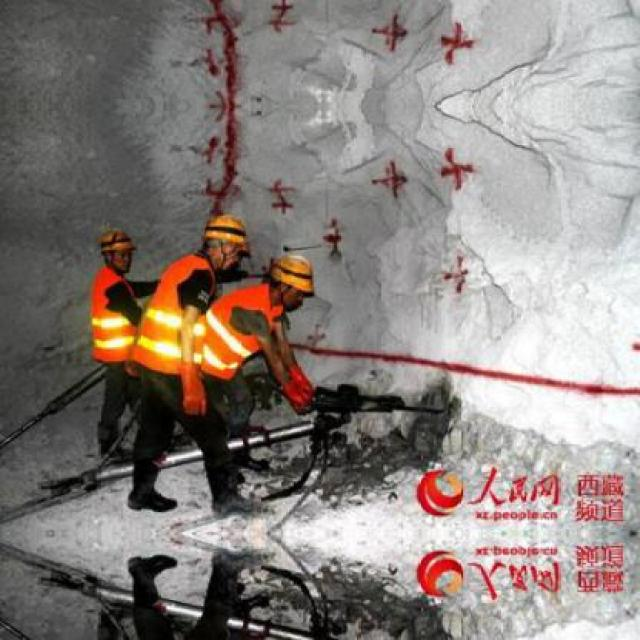helmet: (200, 210, 252, 270), (264, 254, 310, 306), (99, 228, 138, 270)
